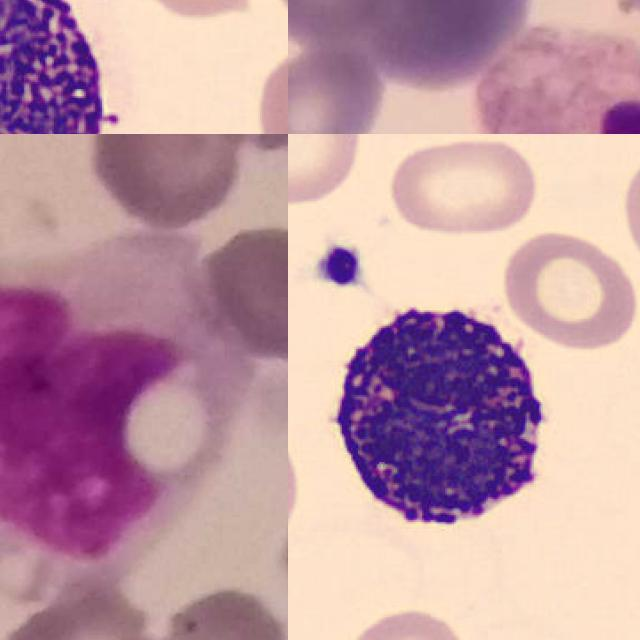Basophil: (317, 284, 559, 550), (0, 0, 136, 134)
Monocyte: (0, 282, 243, 585)
Neutrophil: (479, 22, 640, 134)
Platelets: (312, 240, 369, 291)
RBC: (496, 223, 640, 354), (385, 134, 543, 239), (288, 134, 366, 208), (335, 601, 472, 640), (251, 38, 288, 134)
